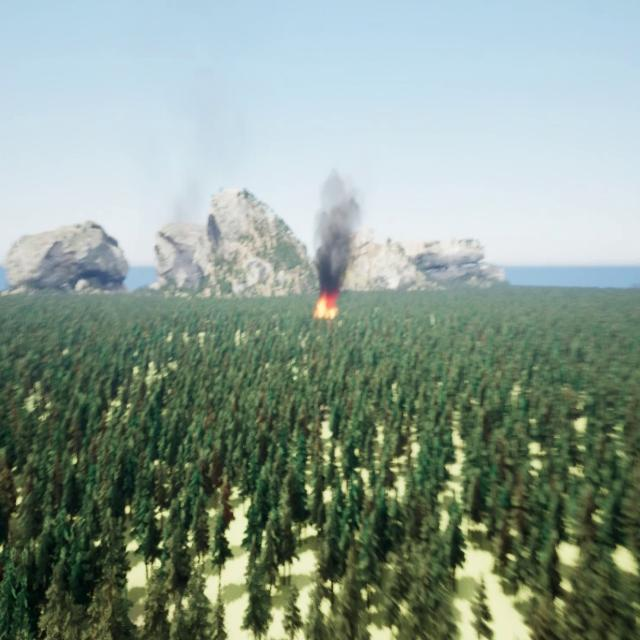fire: (311, 289, 339, 319)
smoke: (312, 171, 362, 289)
